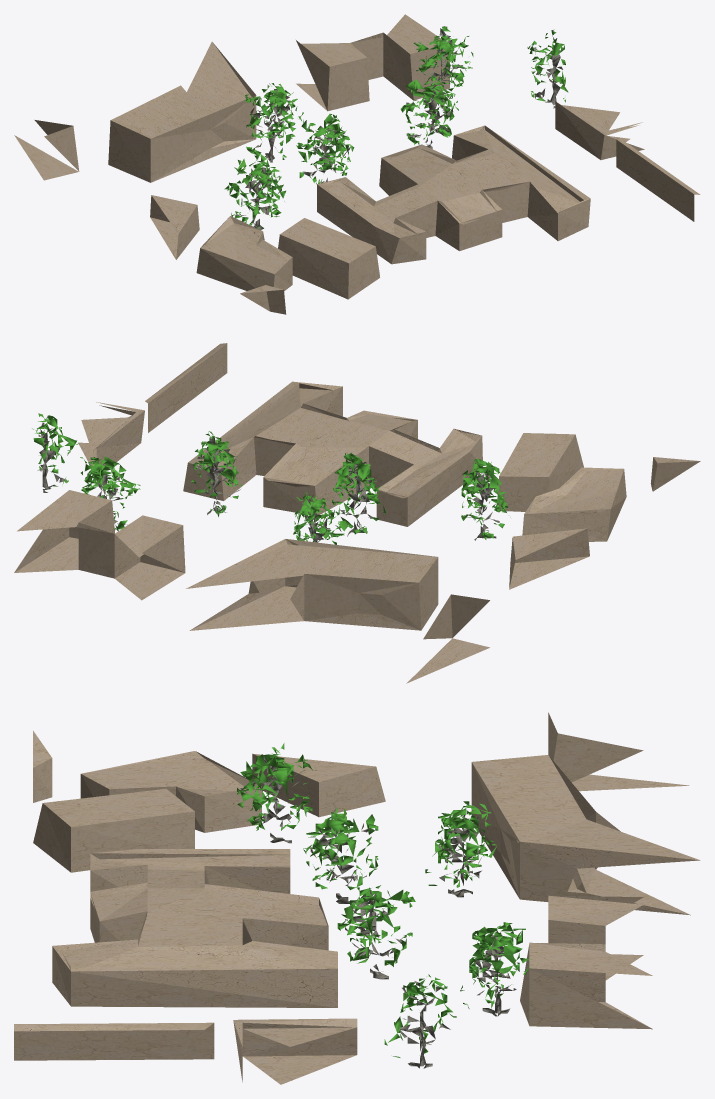
The model's file is tile_0_2.gltf.
The picture shows the model from 3 angles, top to bottom: view 1: azimuth 30°, elevation 25°; view 2: azimuth 150°, elevation 25°; view 3: azimuth 270°, elevation 25°; orthographic projection. The views are drawn at different scales.
Parts seen in each view (by area): view 1: Plane.011@tile_0_2, Bodhi Tree_Bodhi_front_2_Mat_0.044@tile_0_2; view 2: Plane.011@tile_0_2, Bodhi Tree_Bodhi_front_2_Mat_0.044@tile_0_2; view 3: Plane.011@tile_0_2, Bodhi Tree_Bodhi_front_2_Mat_0.044@tile_0_2.
Boxes of the visible parts, x1,y1,x2,y2 form: Plane.011@tile_0_2: (14,14,700,314); Bodhi Tree_Bodhi_front_2_Mat_0.044@tile_0_2: (224,26,568,229); Plane.011@tile_0_2: (14,343,700,683); Bodhi Tree_Bodhi_front_2_Mat_0.044@tile_0_2: (32,413,508,544); Plane.011@tile_0_2: (14,712,700,1084); Bodhi Tree_Bodhi_front_2_Mat_0.044@tile_0_2: (237,743,529,1068).
Bounding box in the file's own units: 69.68 × 10.62 × 64.88.
Materials: 3 (2 with a texture image).
